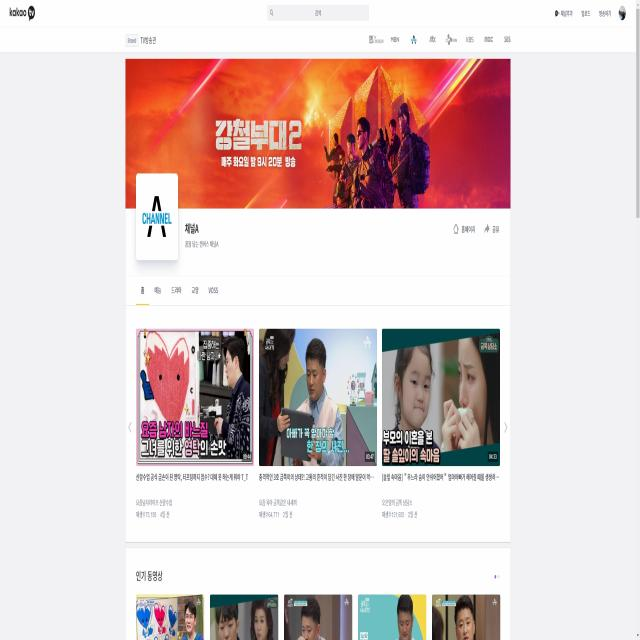menu-bar: (552, 1, 628, 25)
search: (266, 2, 370, 23)
tab-bar: (367, 26, 514, 52), (134, 280, 222, 308)
